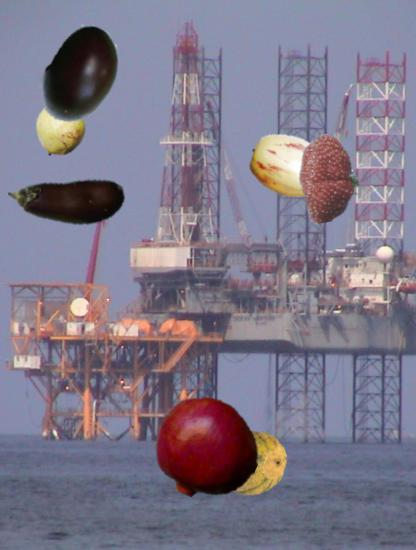Cantaloupe: (219, 429, 288, 498)
Eggplant: (10, 144, 128, 262), (27, 23, 133, 129)
Pear: (26, 83, 101, 158)
Pepino: (249, 122, 340, 213)
Pomegranate: (154, 396, 260, 502)
Strawberry: (286, 134, 374, 222)
